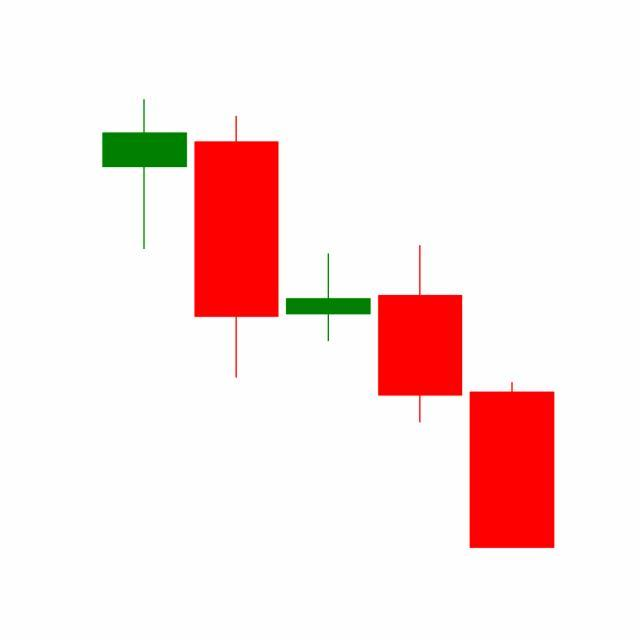Three Outside Up-Down: (280, 242, 555, 549)
